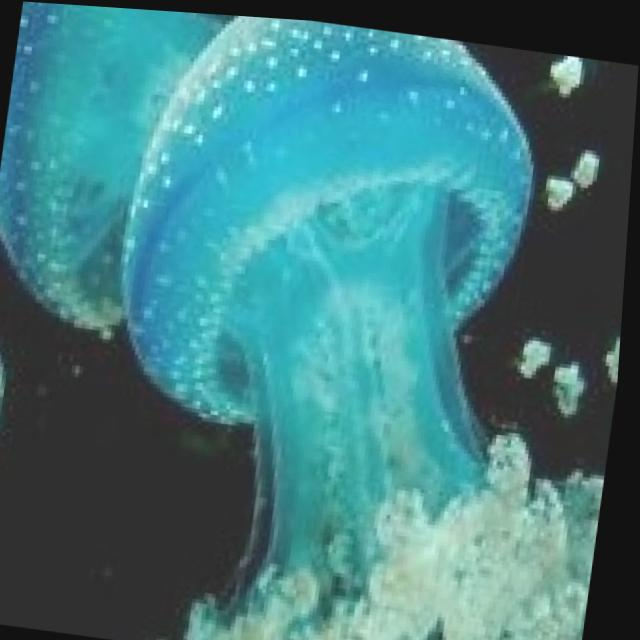Jellyfish: (42, 4, 640, 640)
